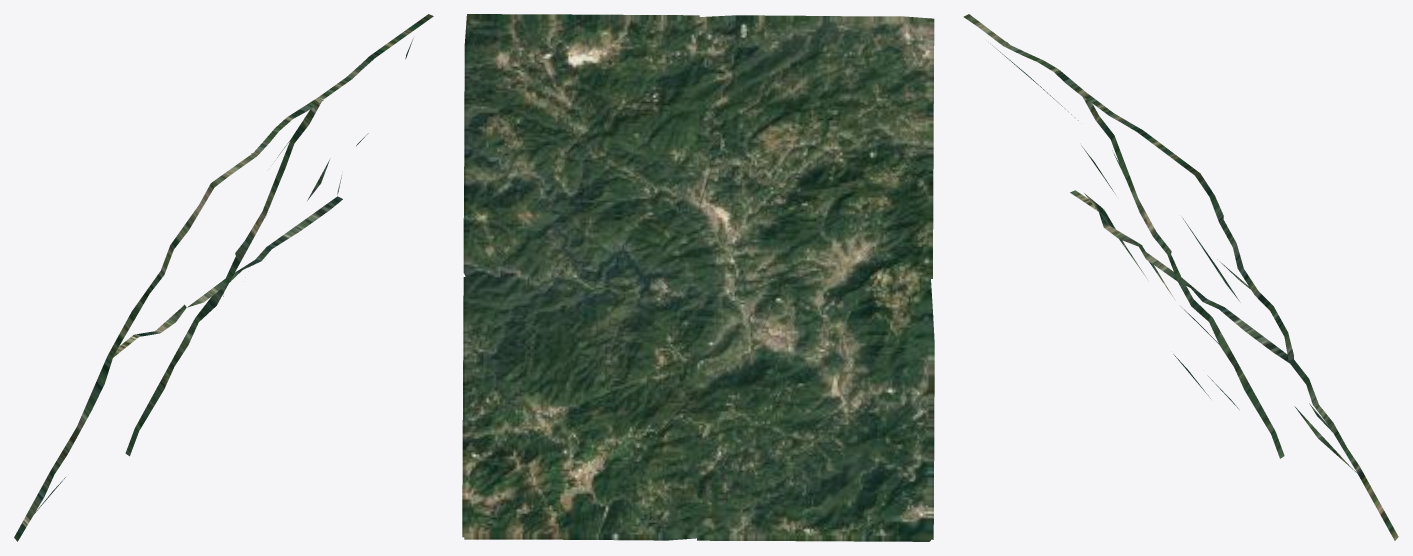
3 renders of one model, left to right at view 1: azimuth 30°, elevation 25°; view 2: azimuth 150°, elevation 25°; view 3: azimuth 270°, elevation 25°, orthographic. The views are drawn at different scales.
Size of the model in its own units: 39199 by 35674 by 33657.
Materials: 1 (1 with a texture image).
